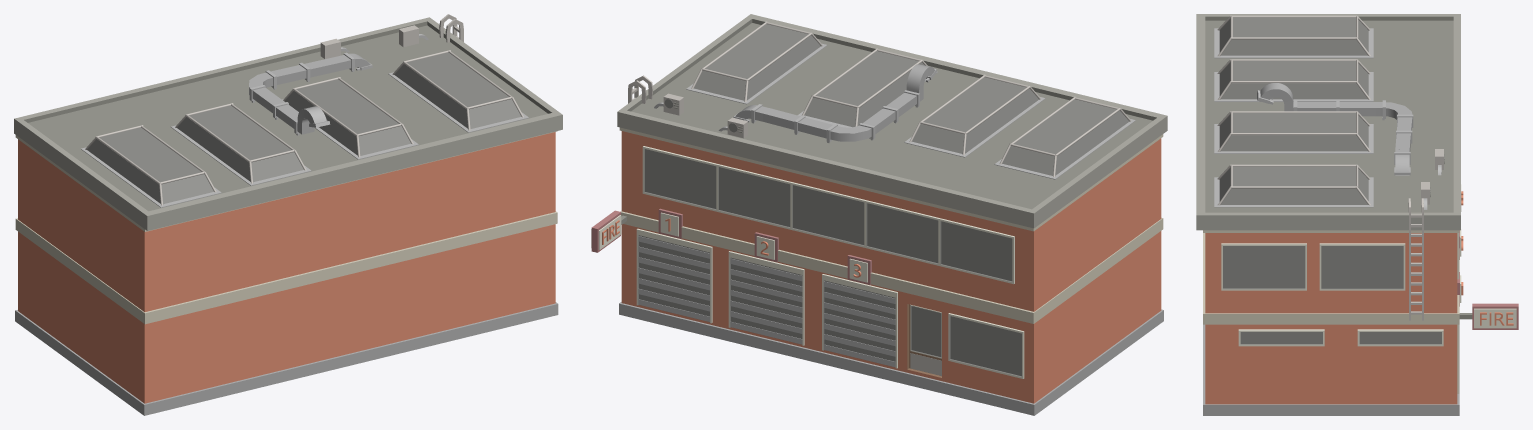
The model's file is house35.fbx.
3 views of the same model, side by side, from view 1: azimuth 30°, elevation 25°; view 2: azimuth 150°, elevation 25°; view 3: azimuth 270°, elevation 25° (orthographic).
Parts seen in each view (by area): view 1: q_1; view 2: q_1; view 3: q_1.
Boxes of the visible parts, <box> form: q_1: <box>14,14,562,415</box>; q_1: <box>591,14,1167,415</box>; q_1: <box>1196,14,1518,415</box>.
Size of the model in its own units: 2112 by 1097 by 1400.
